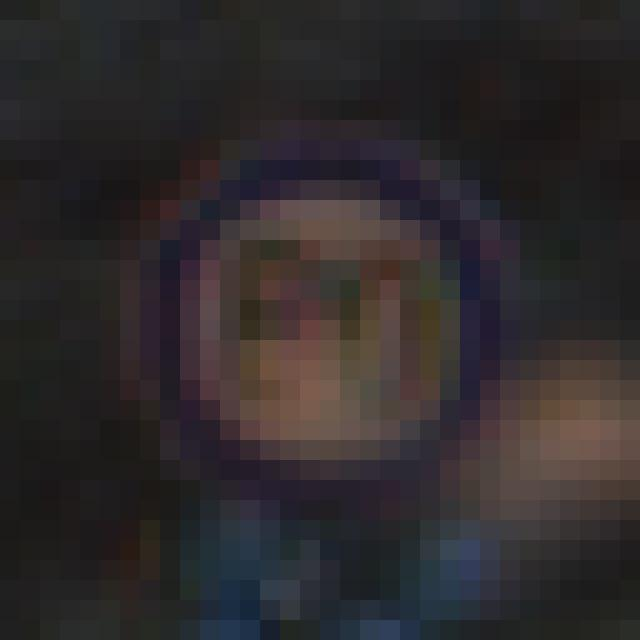SPEED-LIMIT-80: (137, 143, 513, 502)
